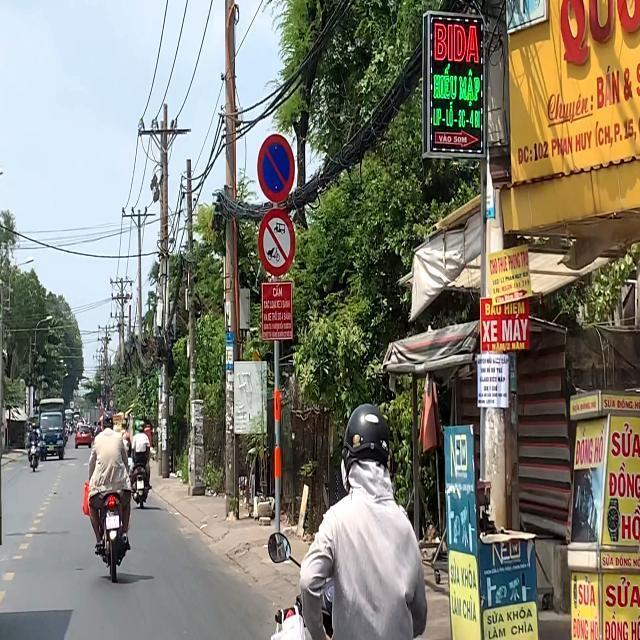131a-cam-do-xe: (254, 134, 300, 202)
